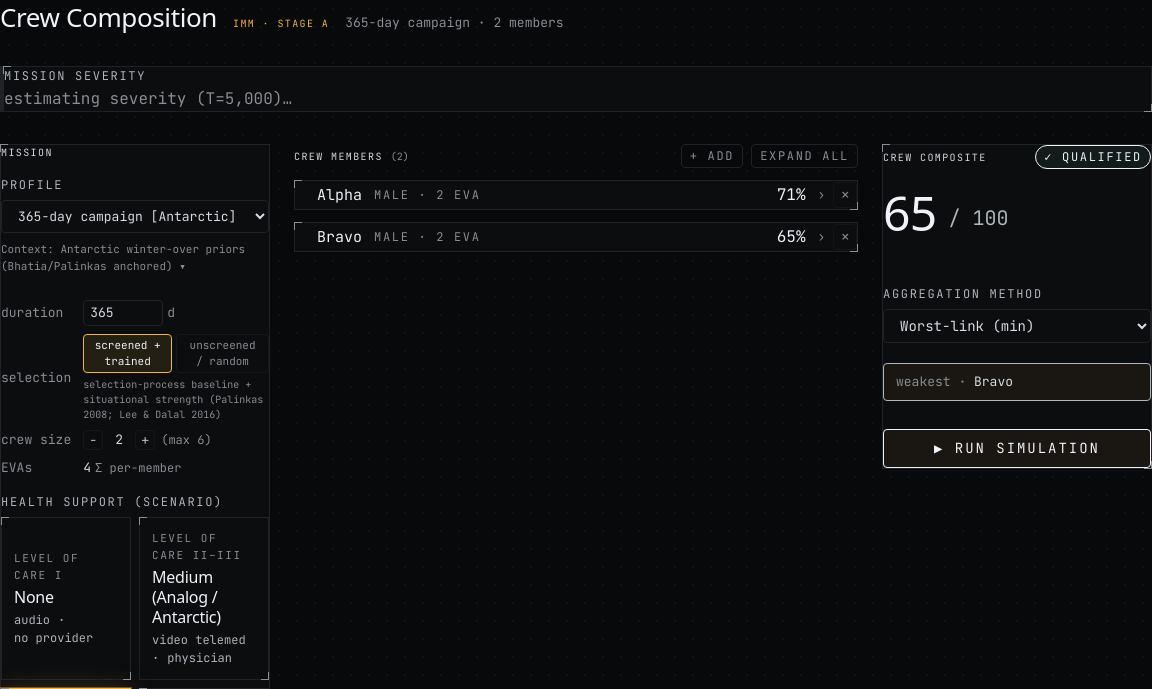
Test case: CrewComposition · I6 analog Bayesian MCMC posterior › empty draws → panel shows no-per-condition-draws note; no pp worker message
This screenshot has width=1152, height=689.
Click the button with aria-label "run IMM Monte Carlo simulation" at (1017, 448), box [883,428,1151,468]
(page scrolled)
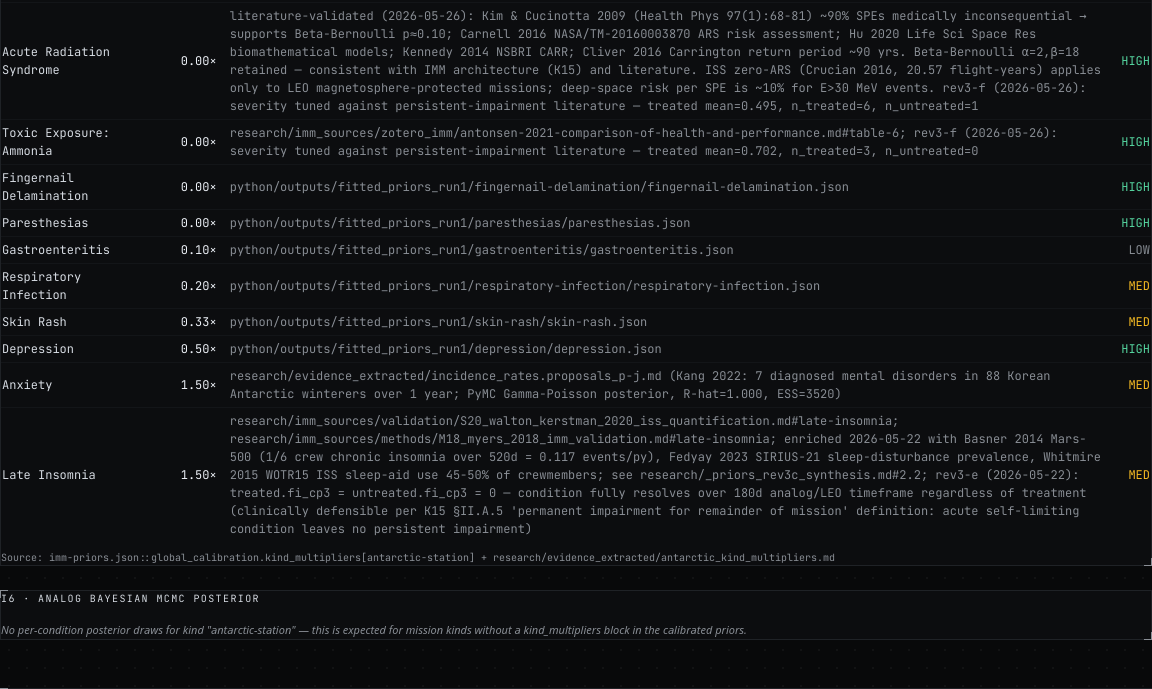
Expected: the element with test id "imm-i6-posterior" is shown, [0,590,1151,640]
Expected: the text "No per-condition posterior draws" is shown, [1,622,211,637]
